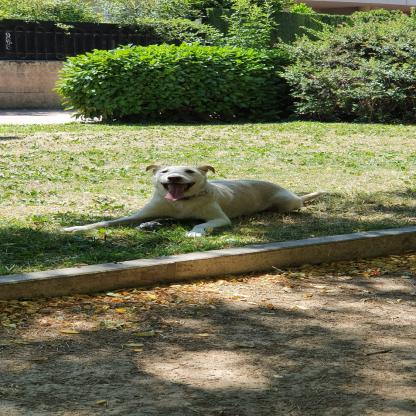dog: (63, 165, 352, 238)
